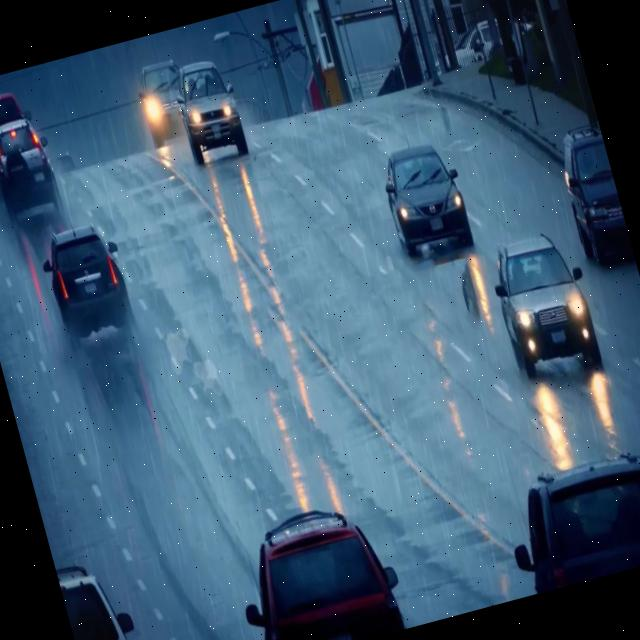car: (222, 494, 411, 640), (486, 227, 604, 384), (493, 443, 640, 560), (374, 138, 479, 266), (550, 123, 636, 275), (37, 220, 134, 342), (168, 54, 252, 168), (0, 115, 67, 219), (132, 55, 200, 148), (68, 555, 142, 640), (0, 91, 40, 199)
